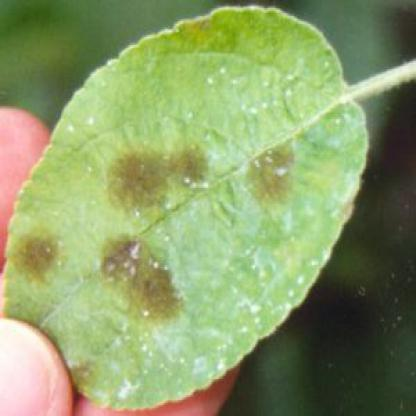Apple Scab Leaf: (6, 6, 386, 398)
